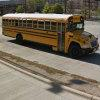Bus: (2, 7, 92, 58)
